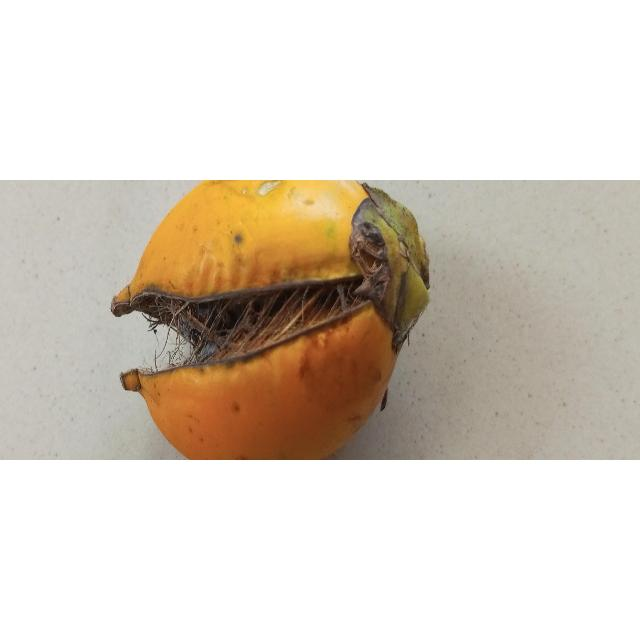damaged: (109, 180, 431, 461)
